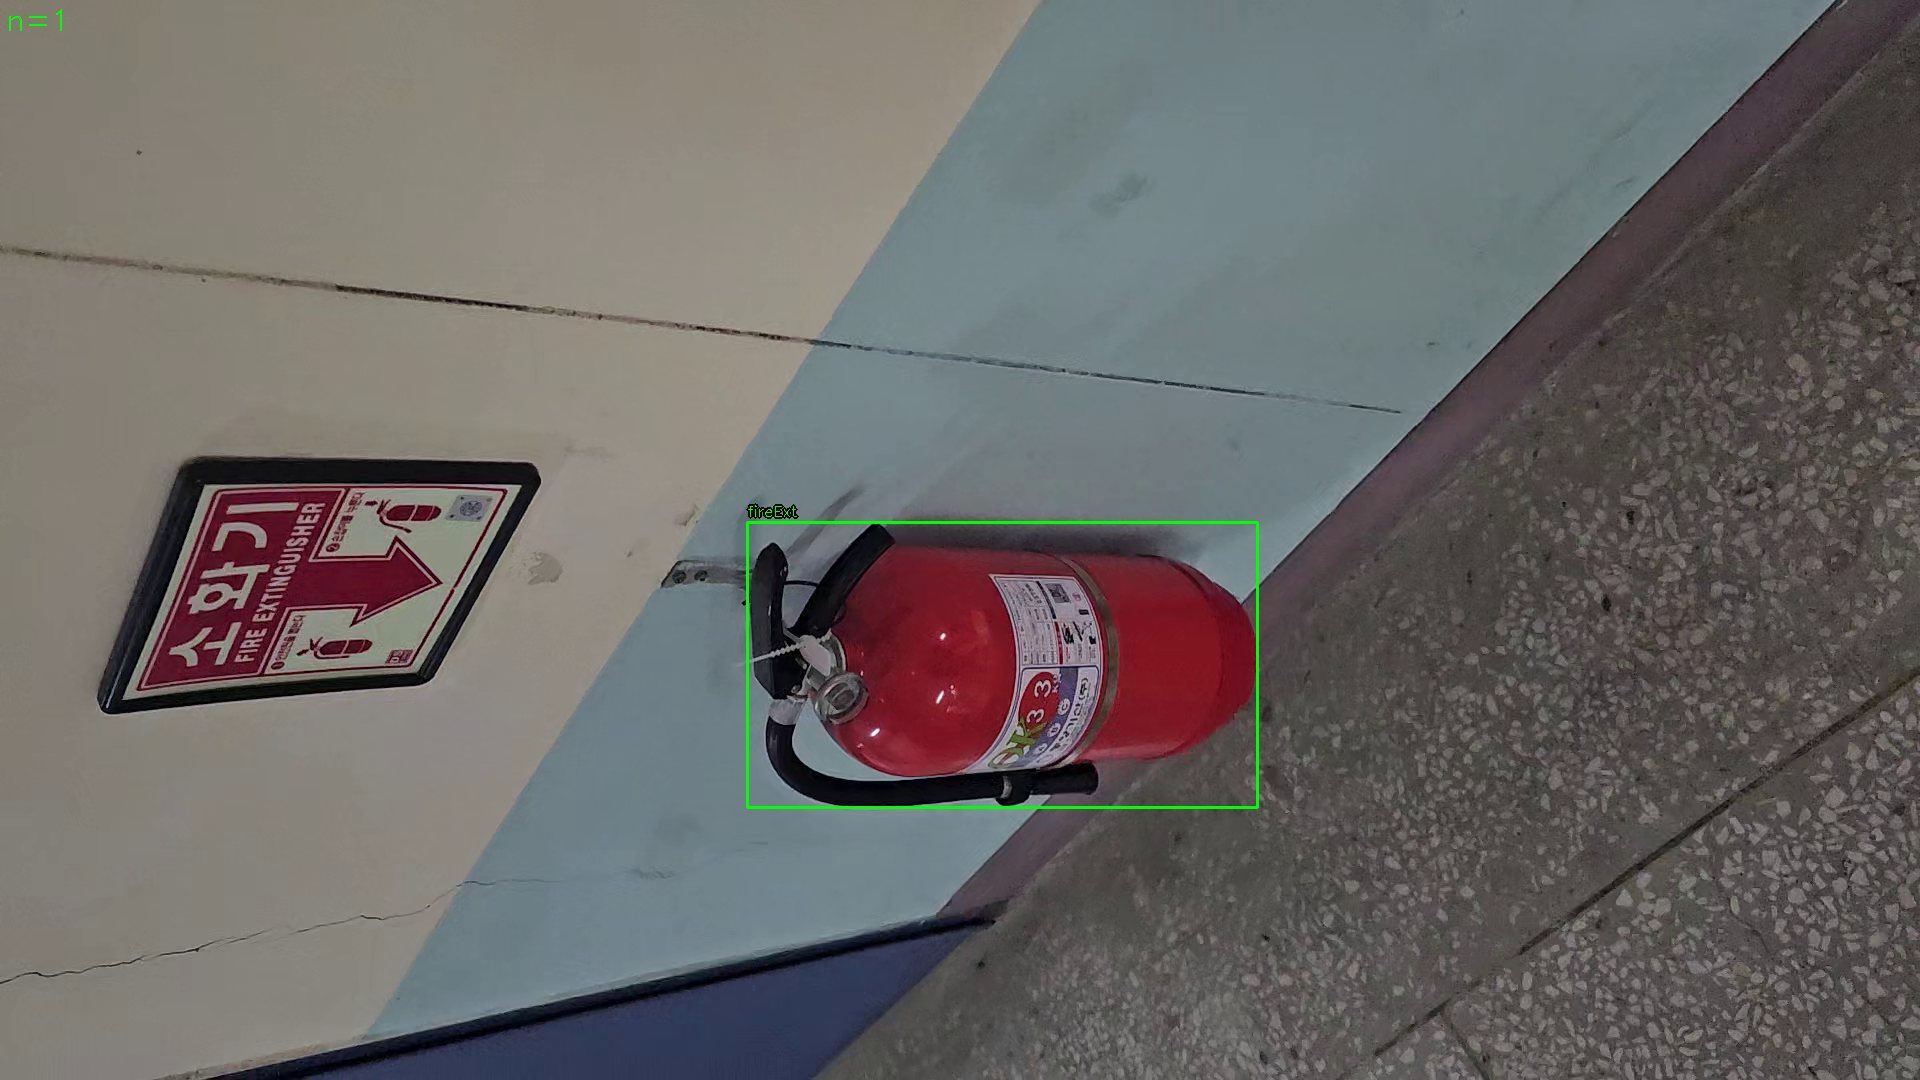lane: (746, 522, 1258, 808)
